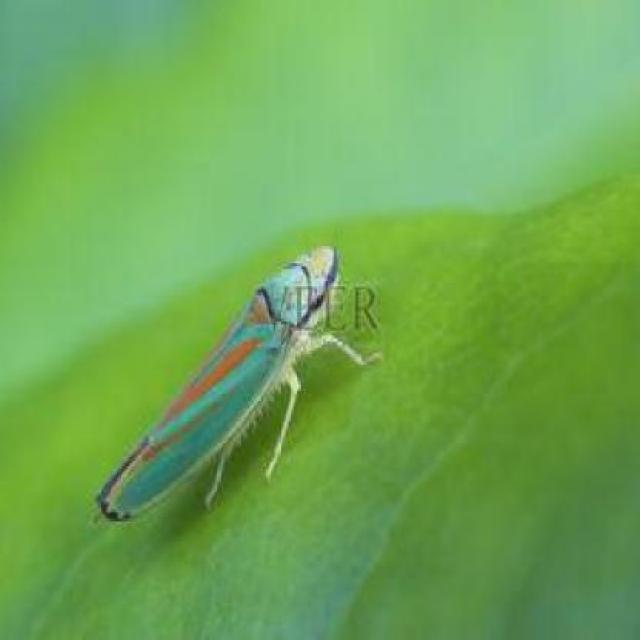green-leafhopper: (110, 242, 338, 520)
